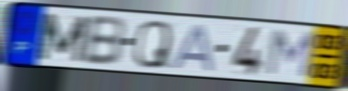4: (229, 25, 264, 78)
A: (168, 22, 217, 74)
B: (81, 15, 127, 68)
M: (36, 11, 91, 64), (263, 27, 317, 80)
Q: (132, 19, 173, 71)
